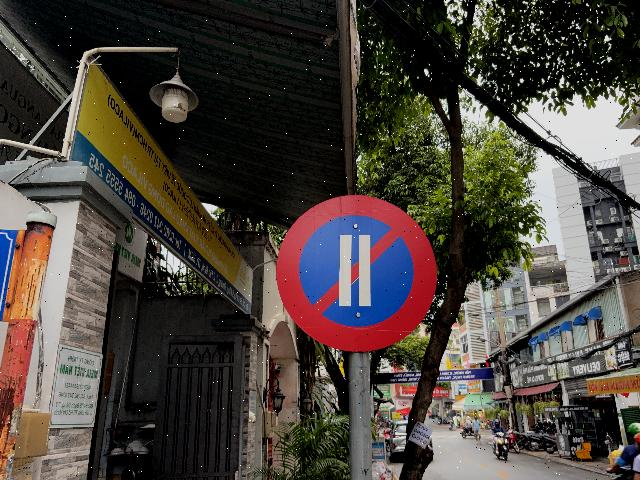cam-do-xe-ngay-chan: (276, 194, 439, 352)
